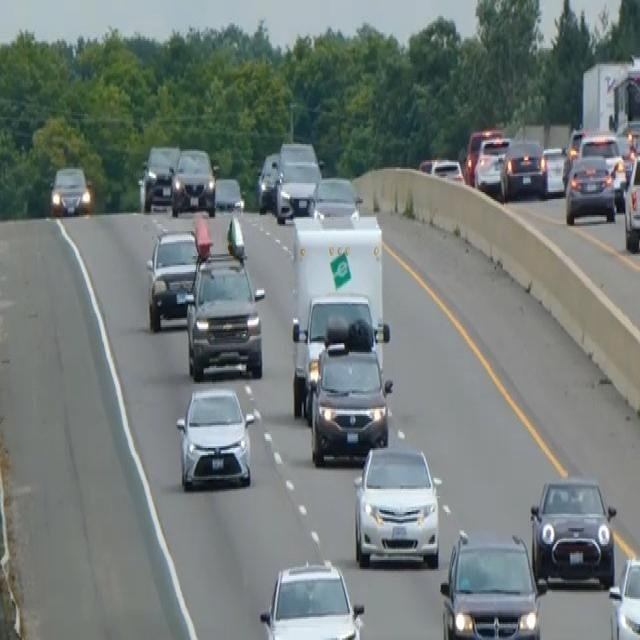car: (308, 318, 393, 466), (529, 473, 617, 588), (258, 556, 364, 638), (175, 384, 255, 491), (145, 226, 201, 330), (564, 153, 616, 226), (576, 132, 626, 206), (170, 146, 216, 215), (273, 158, 320, 222), (500, 137, 547, 199), (139, 142, 179, 212), (608, 553, 639, 638), (473, 134, 512, 196), (464, 124, 503, 185), (49, 163, 91, 217), (312, 174, 361, 220), (623, 149, 639, 251), (256, 151, 280, 212), (540, 144, 567, 196), (418, 155, 464, 185), (213, 174, 244, 213), (278, 139, 319, 167)
jeep: (184, 247, 266, 381)
minivan: (439, 526, 546, 638), (351, 439, 441, 569)
truck: (289, 212, 386, 418)
